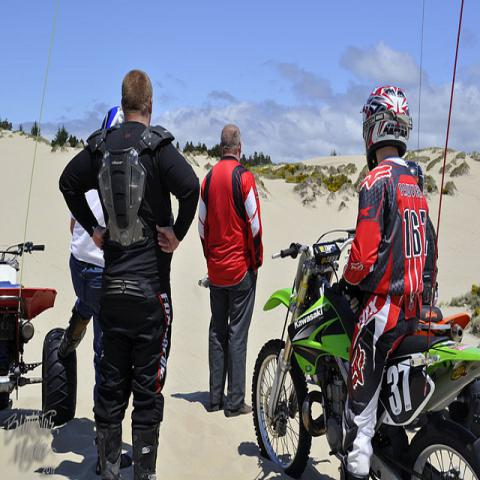motorcycle: (251, 235, 479, 474), (1, 241, 79, 423)
